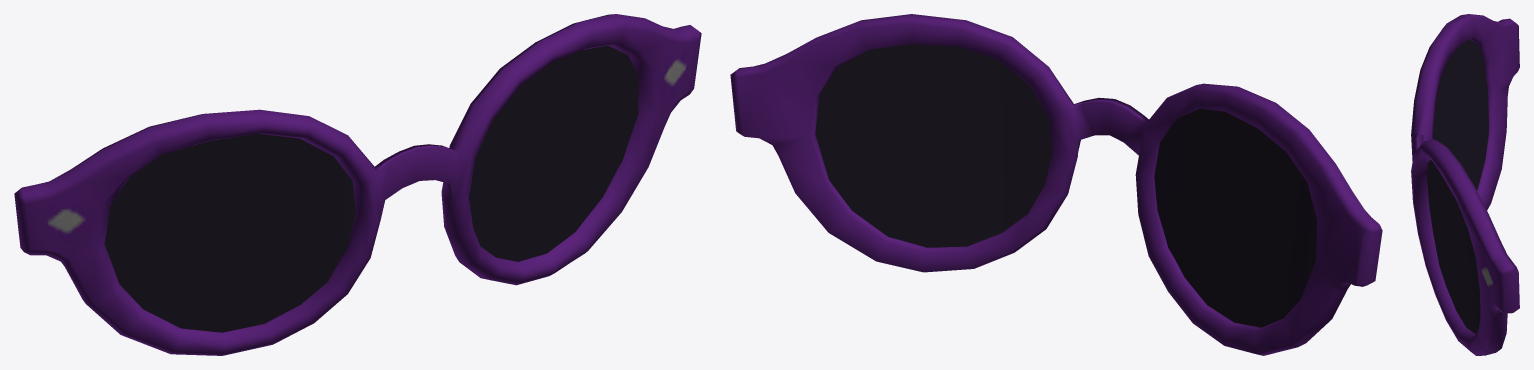
The model's file is AccessoryGlassBoston7.glb.
3 views of the same model, side by side, from view 1: azimuth 30°, elevation 25°; view 2: azimuth 150°, elevation 25°; view 3: azimuth 270°, elevation 25° (orthographic). The views are drawn at different scales.
Visible parts, largest first — view 1: AccessoryAlpha__AccessoryGlassBostonBlackHigh_mAccessory; view 2: AccessoryAlpha__AccessoryGlassBostonBlackHigh_mAccessory; view 3: AccessoryAlpha__AccessoryGlassBostonBlackHigh_mAccessory.
Boxes of the visible parts, x1,y1,x2,y2 form: AccessoryAlpha__AccessoryGlassBostonBlackHigh_mAccessory: (14,14,701,355); AccessoryAlpha__AccessoryGlassBostonBlackHigh_mAccessory: (730,14,1382,355); AccessoryAlpha__AccessoryGlassBostonBlackHigh_mAccessory: (1411,14,1519,355).
Bounding box in the file's own units: 6.82 × 2.42 × 1.24.
Materials: 1 (1 with a texture image).
